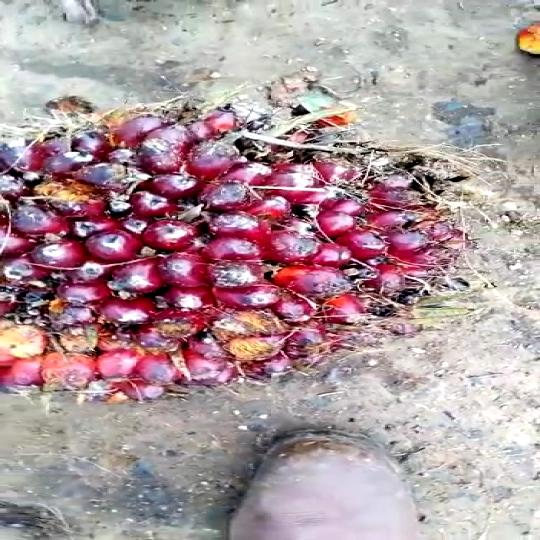masak: (0, 66, 469, 406)
